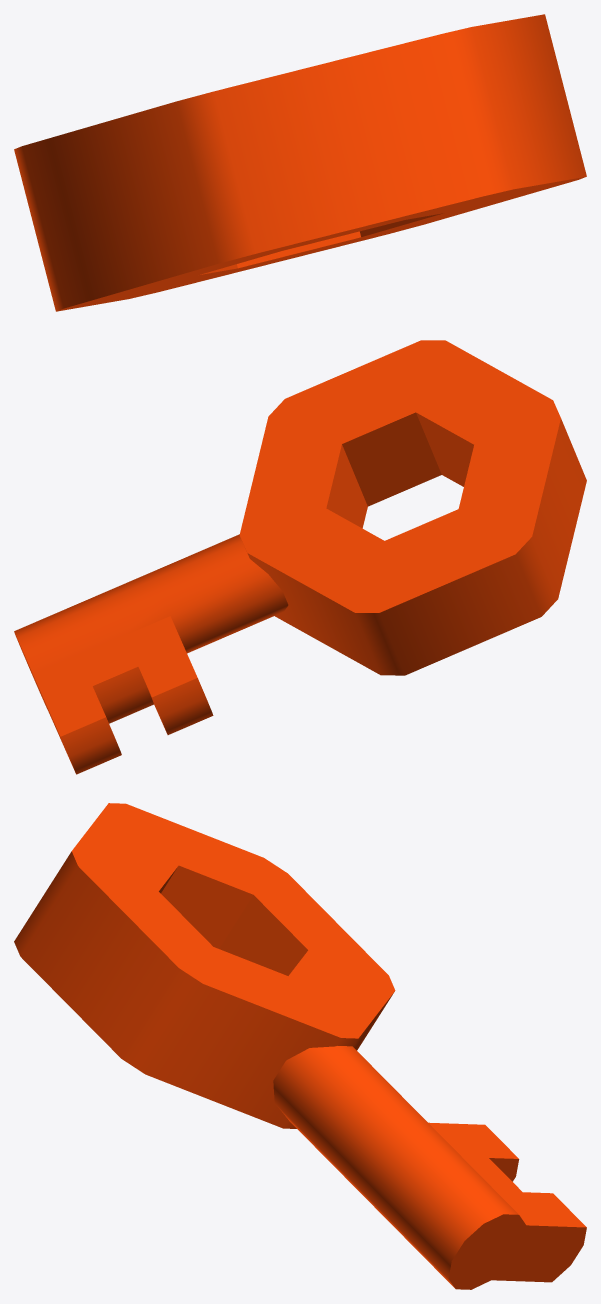
File: DroppedKey.fbx
The picture shows the model from 3 angles, top to bottom: view 1: azimuth 30°, elevation 25°; view 2: azimuth 150°, elevation 25°; view 3: azimuth 270°, elevation 25°; orthographic projection. The views are drawn at different scales.
Visible parts, largest first — view 1: Model; view 2: Model; view 3: Model.
Boxes of the visible parts, bbox=[...] form: Model: bbox=[14, 14, 586, 311]; Model: bbox=[14, 340, 586, 774]; Model: bbox=[14, 803, 586, 1289].
Size of the model in its own units: 0.8295 by 0.5826 by 0.8686.
